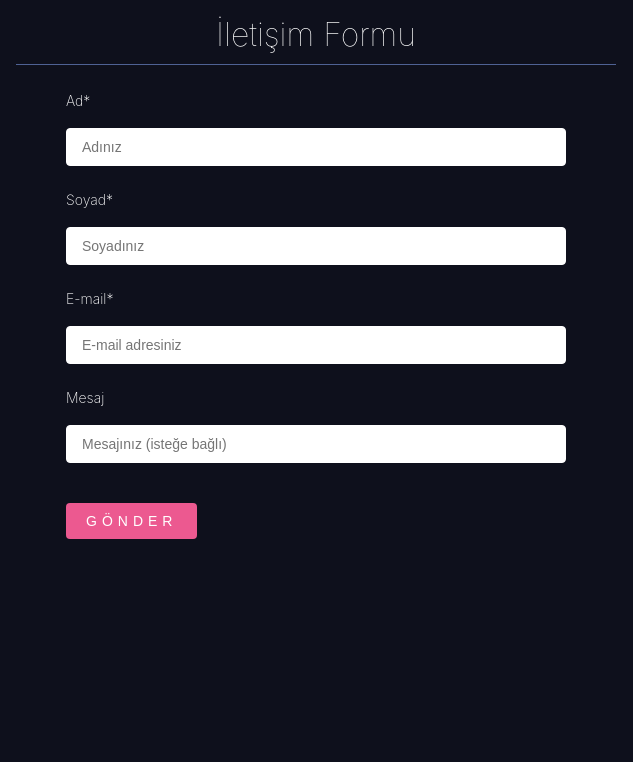
Scenario: [9] form gönderildiğinde girilen tüm değerler render ediliyor.
In the field with test id "name-input": (316, 147) [66,128,566,166], type "Ömer Sabri"
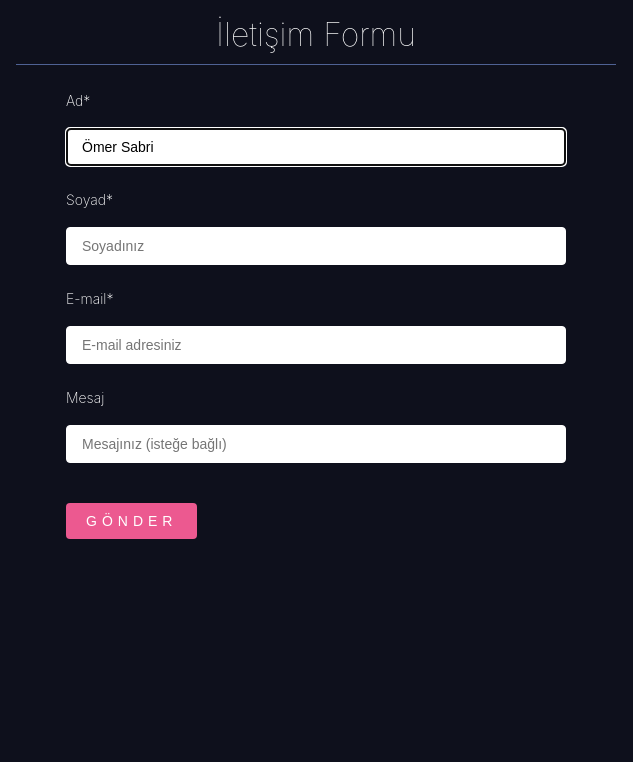
In the field with test id "lastName-input": (316, 246) [66,227,566,265], type "Balcı"
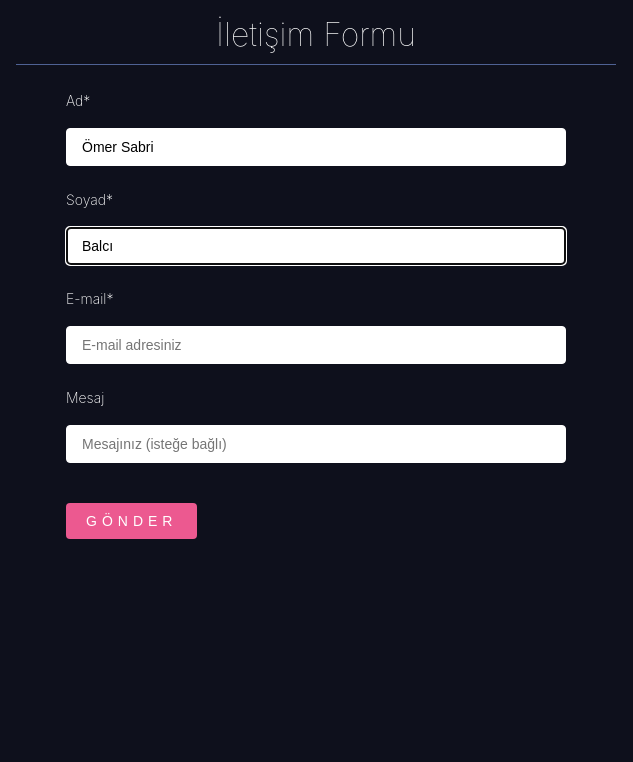
In the field with test id "email-input": (316, 345) [66,326,566,364], type "omersabribalci@gmail.com"
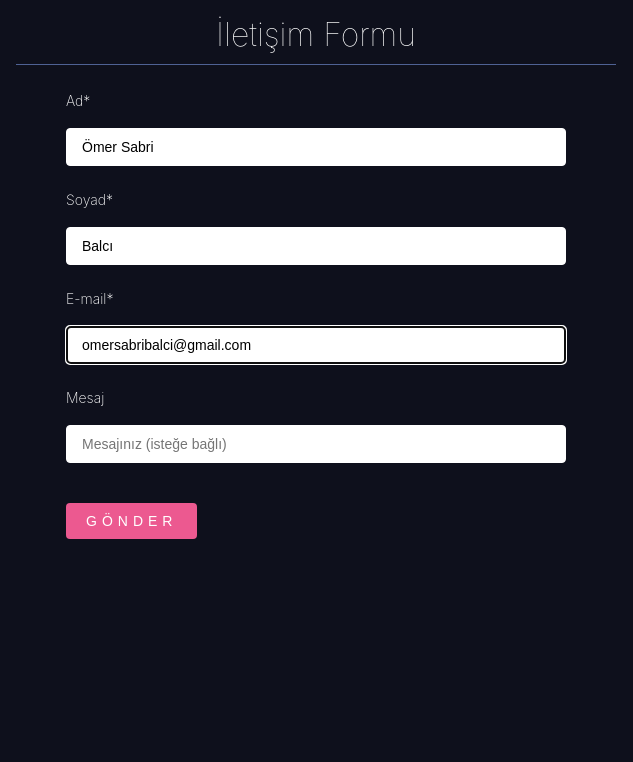
In the field with test id "message-input": (316, 444) [66,425,566,463], type "No Comment!"
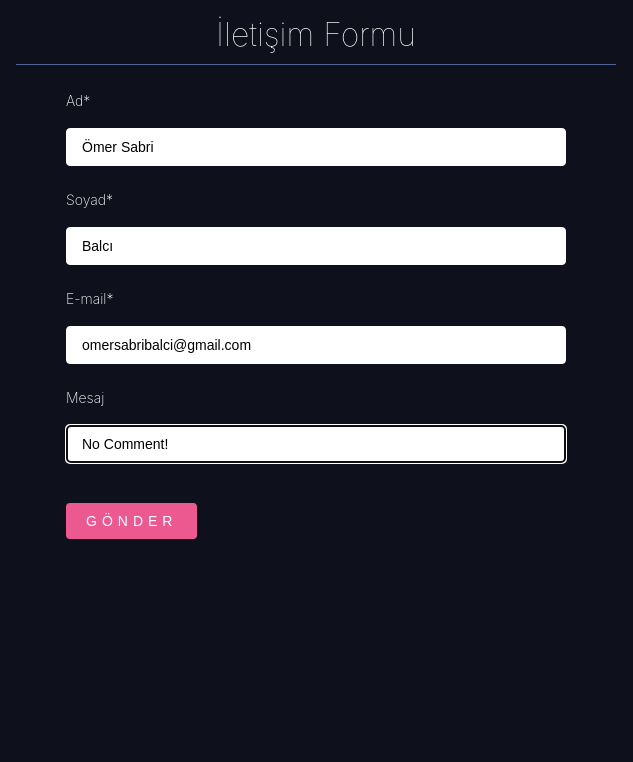
Click the button: (132, 521) [66,503,198,539]
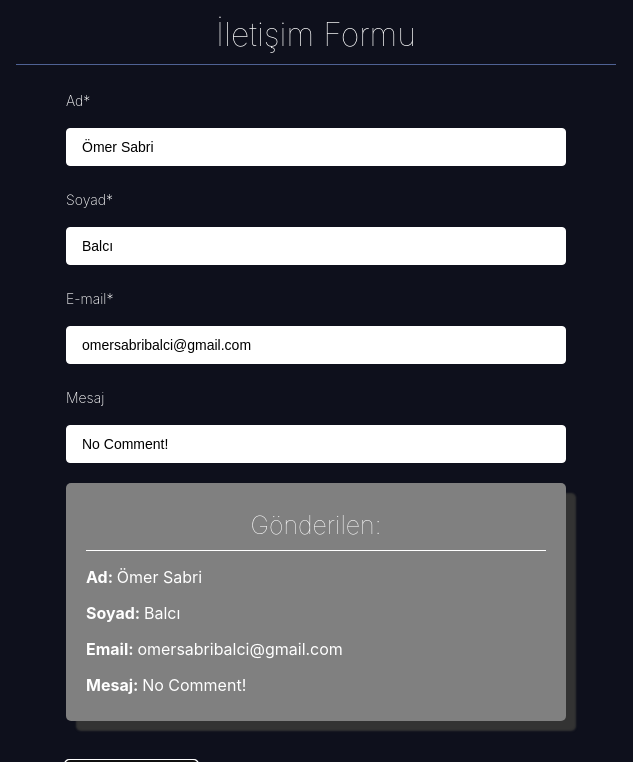
Now the element with test id "firstnameDisplay" shows "Ömer Sabri", box [117,567,202,587]
Now the element with test id "lastnameDisplay" shows "Balcı", box [144,603,180,623]
Now the element with test id "emailDisplay" shows "omersabribalci@gmail.com", box [137,639,343,659]
